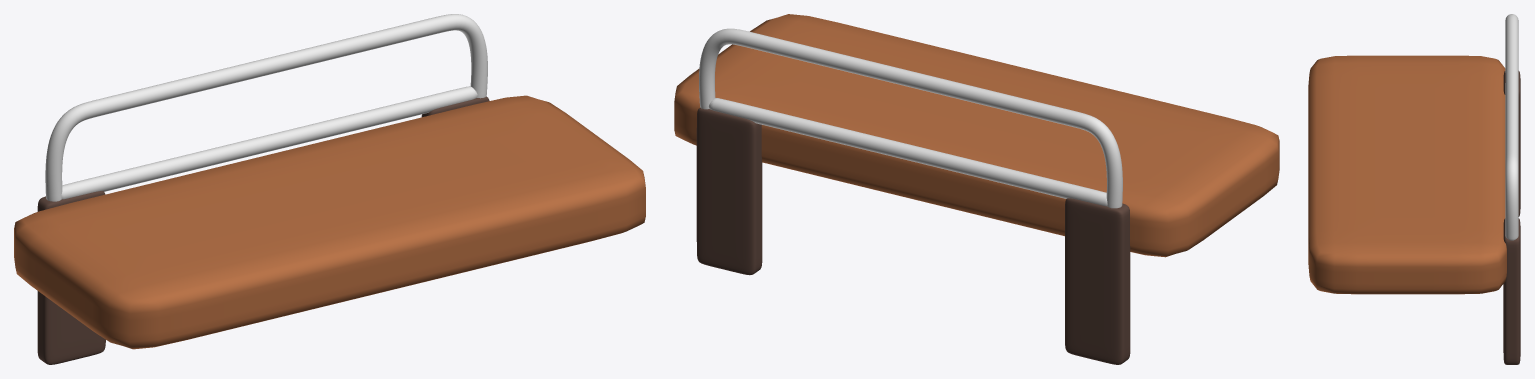
Rendered from Rak Only.fbx.
3 views of the same model, side by side, from view 1: azimuth 30°, elevation 25°; view 2: azimuth 150°, elevation 25°; view 3: azimuth 270°, elevation 25° (orthographic). The views are drawn at different scales.
Parts seen in each view (by area): view 1: Cube.012; view 2: Cube.012; view 3: Cube.012.
Part boxes in pixels (<box>): Cube.012: <box>14,14,645,364</box>; Cube.012: <box>674,14,1279,364</box>; Cube.012: <box>1308,14,1520,364</box>.
Bounding box in the file's own units: 135 × 60.16 × 58.84.
